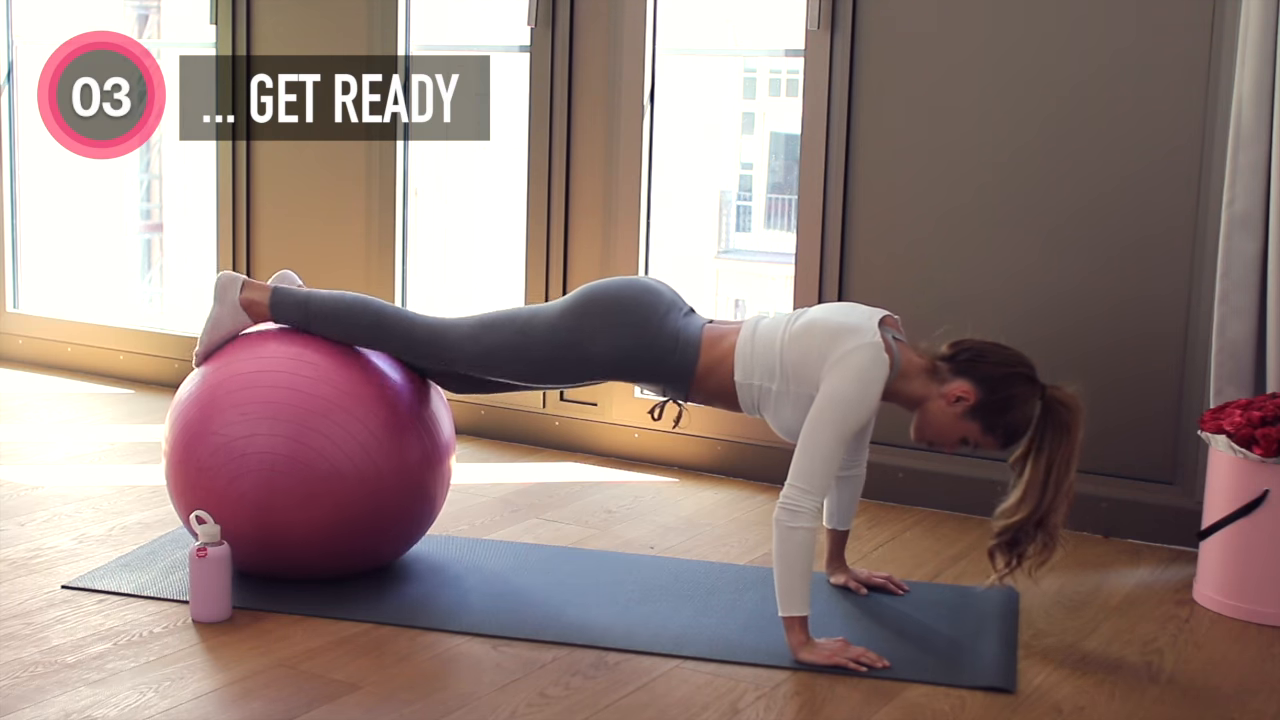yogaball: (157, 318, 466, 582)
